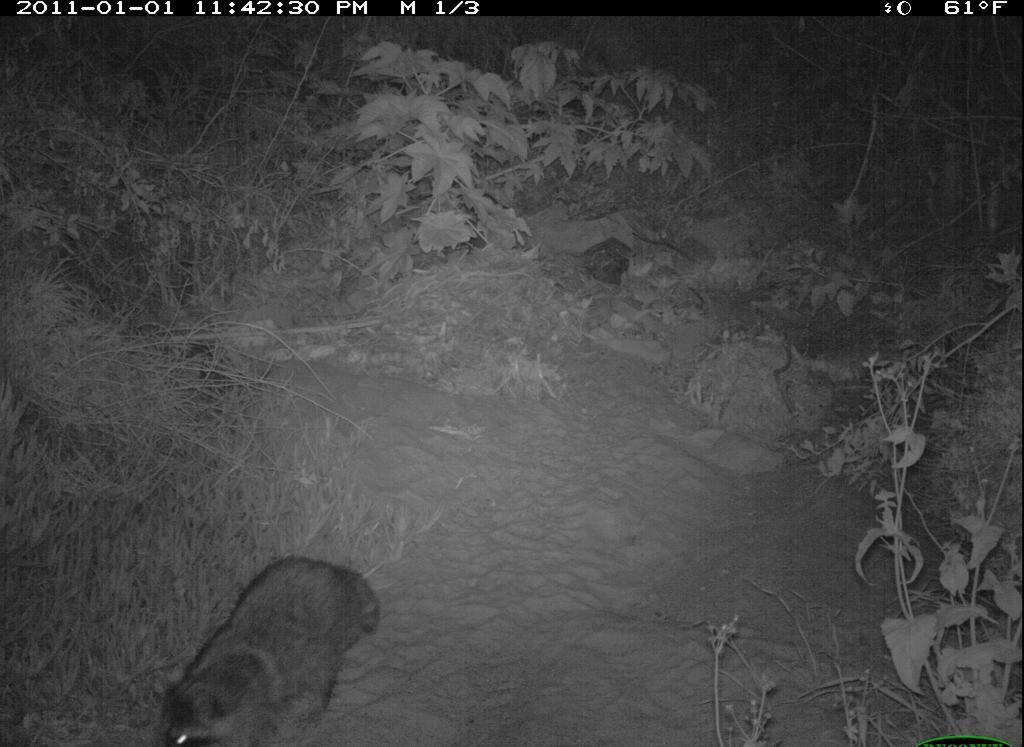raccoon: (154, 548, 390, 747)
